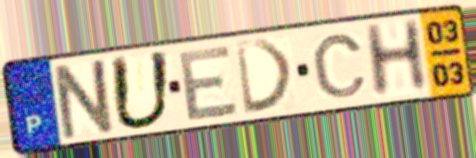C: (309, 32, 370, 101)
D: (232, 37, 298, 118)
E: (176, 42, 242, 124)
H: (360, 16, 432, 102)
N: (53, 55, 119, 143)
U: (107, 48, 175, 133)
